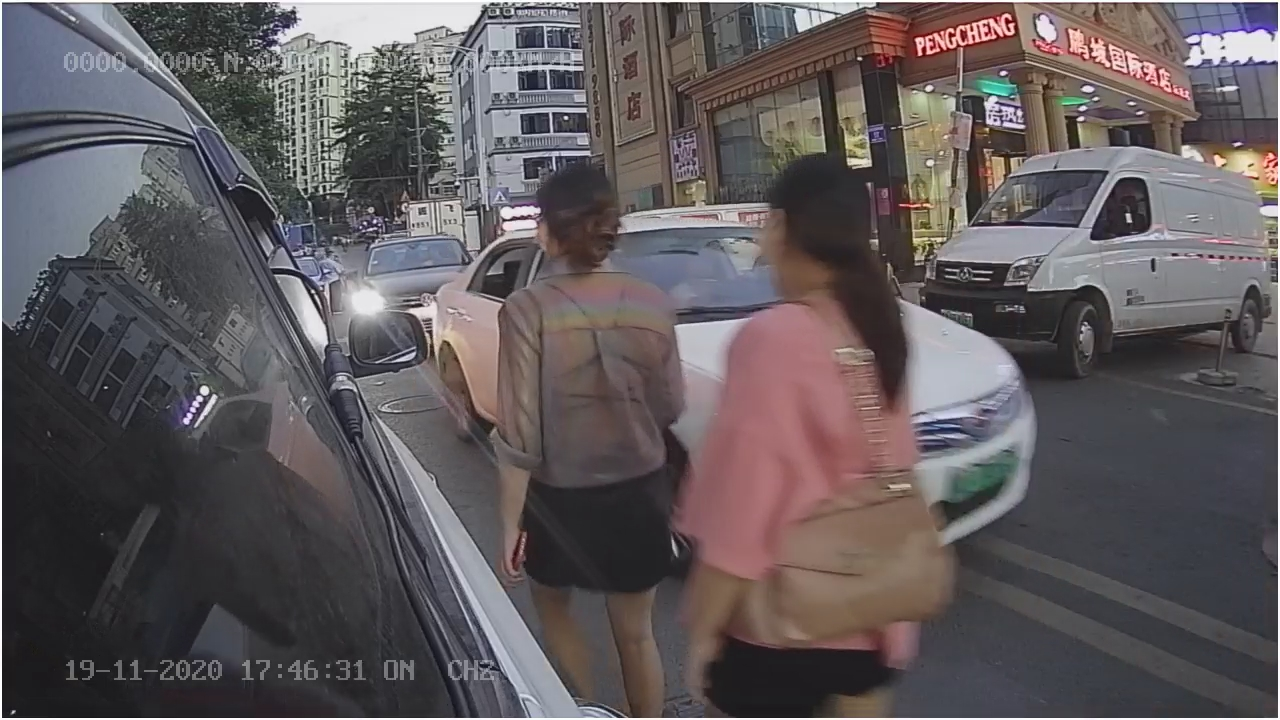person: (489, 171, 690, 624)
